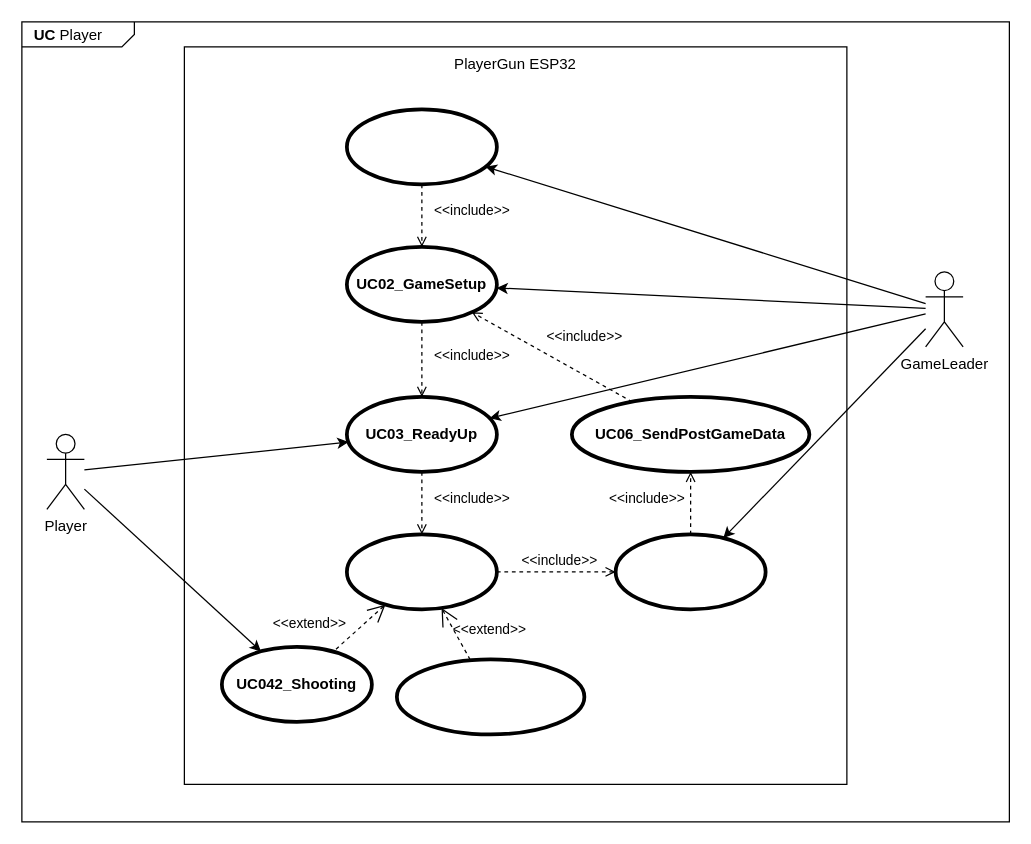
This 1031x844 diagram has some shape labels left out. The shapes that lost their labels are listed below. From the top down, each one's centre as x and y in pixels, then its label:
At point (421, 146): "UC01_Connect".
At point (421, 571): "UC041_GameState".
At point (690, 571): "UC05_GameOver".
At point (490, 696): "UC043_ReceivingHits".
